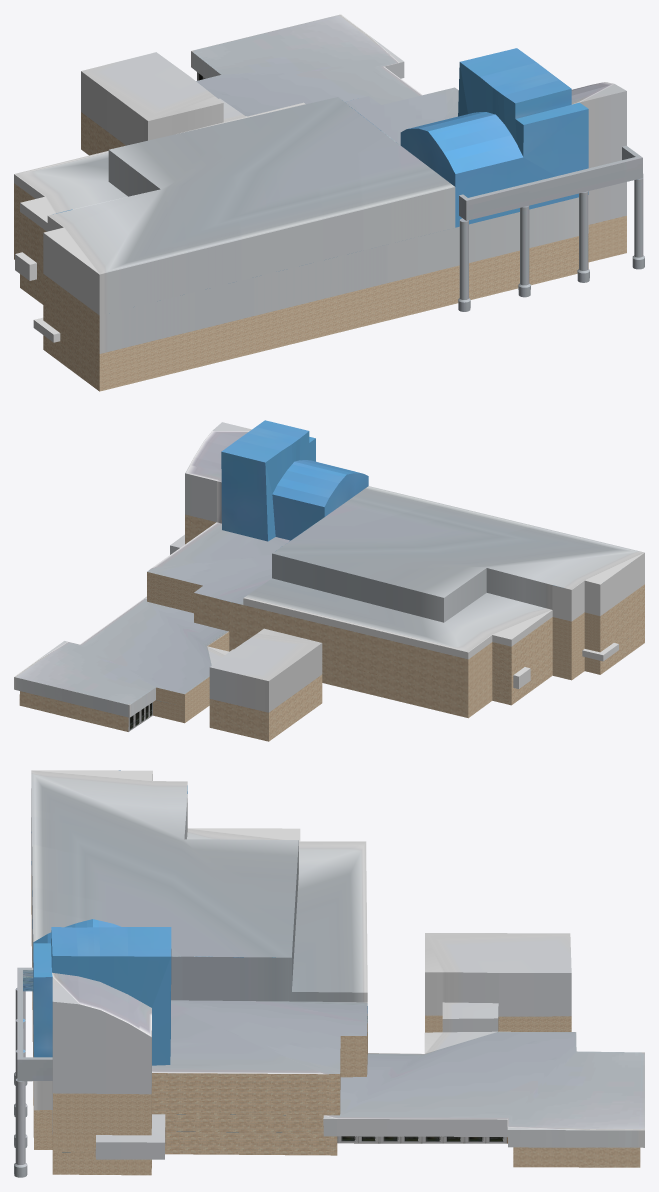
Rendered from OlinTextured.gltf.
The picture shows the model from 3 angles, top to bottom: view 1: azimuth 30°, elevation 25°; view 2: azimuth 150°, elevation 25°; view 3: azimuth 270°, elevation 25°; orthographic projection. The views are drawn at different scales.
Parts seen in each view (by area): view 1: Plane; view 2: Plane; view 3: Plane.
Part boxes in pixels (x1,y1,x2,y2): Plane: (14,14,644,391); Plane: (14,420,644,741); Plane: (14,770,644,1177).
Size of the model in its own units: 62.06 by 19.11 by 56.96.
Materials: 5 (5 with a texture image).
